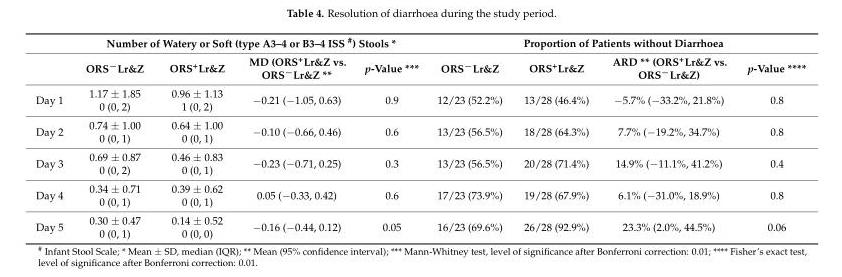table: (35, 34, 805, 240)
table column: (600, 34, 736, 240), (236, 34, 354, 240), (512, 34, 600, 240), (427, 34, 512, 240), (73, 34, 155, 240), (155, 34, 236, 240), (354, 34, 427, 240), (736, 34, 805, 240), (35, 34, 73, 240)
table column header: (35, 34, 805, 84)
table row: (35, 51, 805, 84), (35, 84, 805, 116), (35, 147, 805, 179), (35, 179, 805, 211), (35, 116, 805, 147), (35, 211, 805, 240), (35, 34, 805, 51)
table spanning cell: (427, 34, 805, 51), (73, 34, 427, 51)
